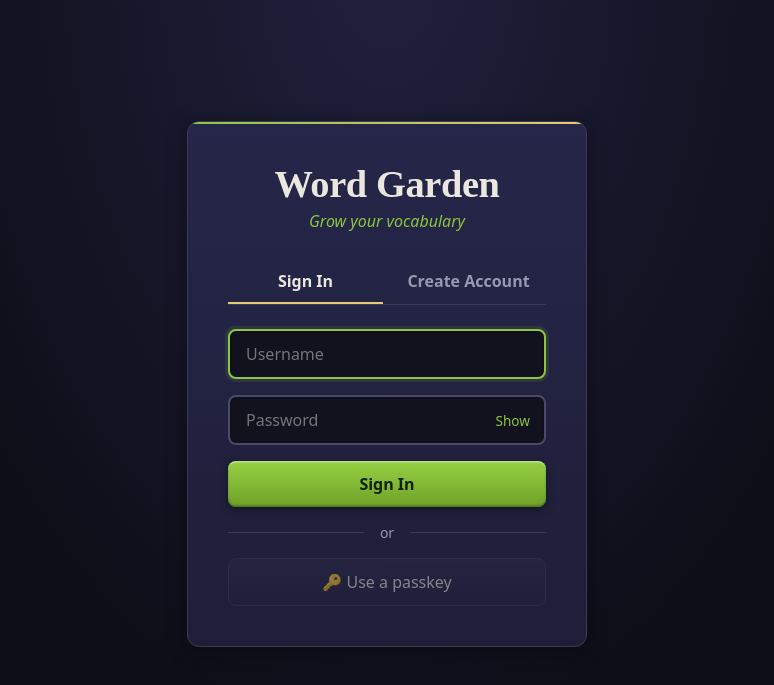
Scenario: Client-side validation › blocks submit and shows an error for a too-short username
Type "ab" into the field with placeholder "Username" at {"x": 387, "y": 354}, box [228,329,546,379]
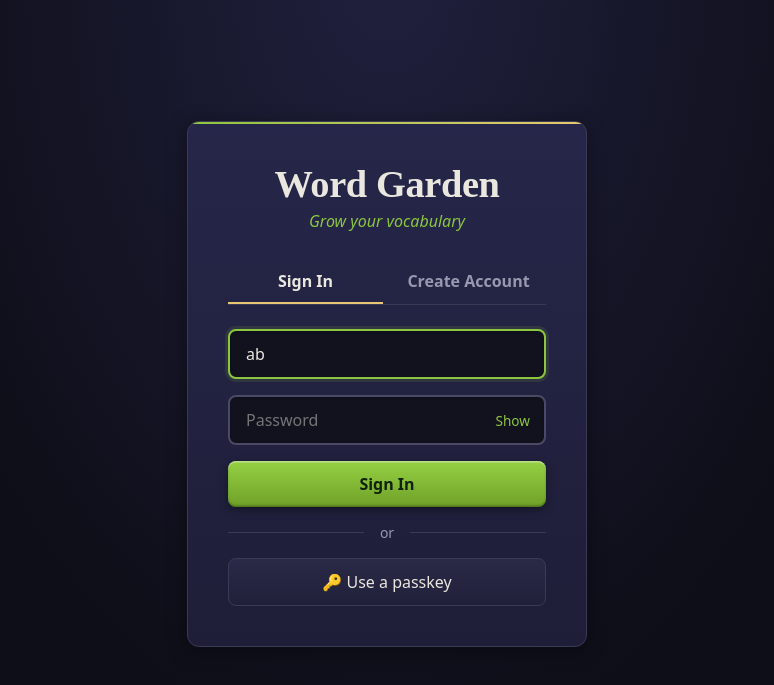
Type "password123" into the password field with placeholder "Password" at {"x": 387, "y": 420}, box [228,395,546,445]
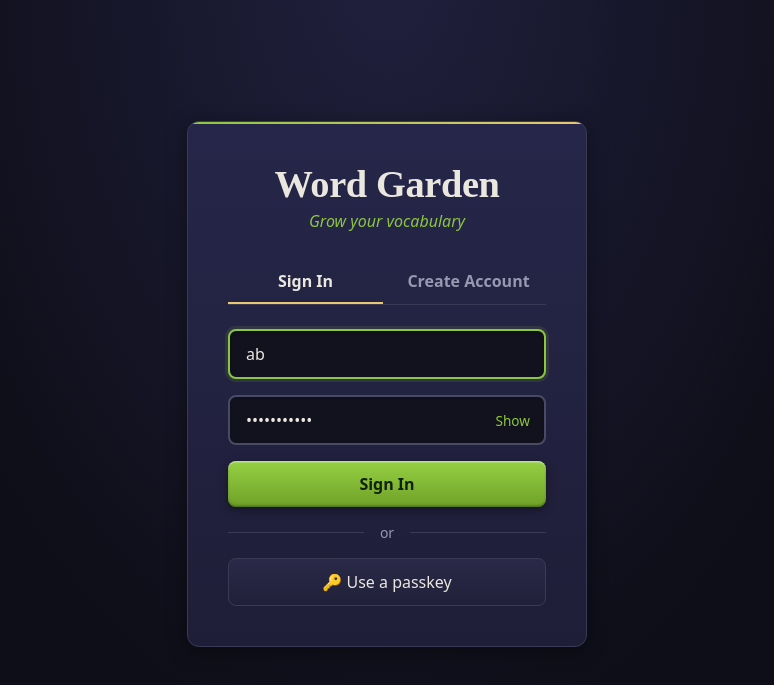
Submit the form, box [228,329,546,606]
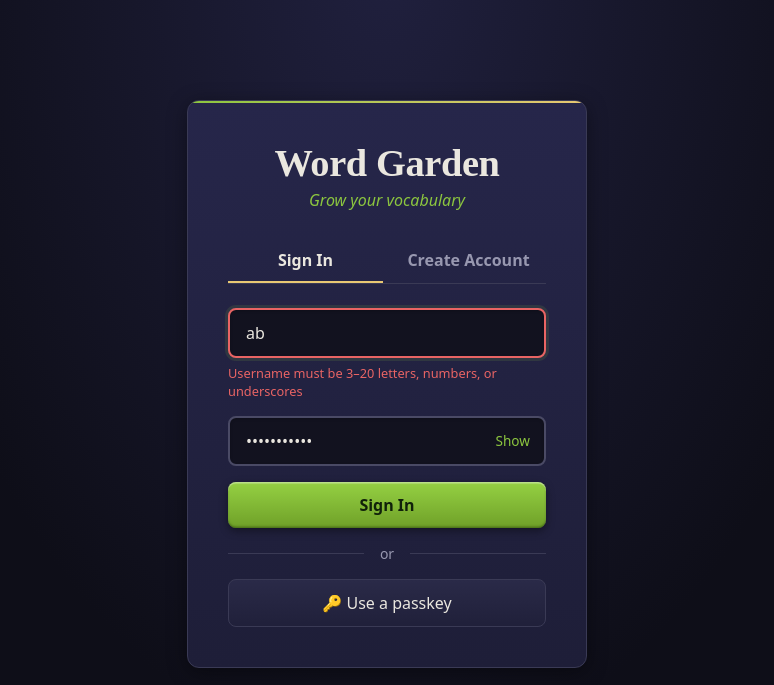
expect the text "Username must be 3–20 letters, numbers, or underscores" is shown: met, box [228,364,497,400]
